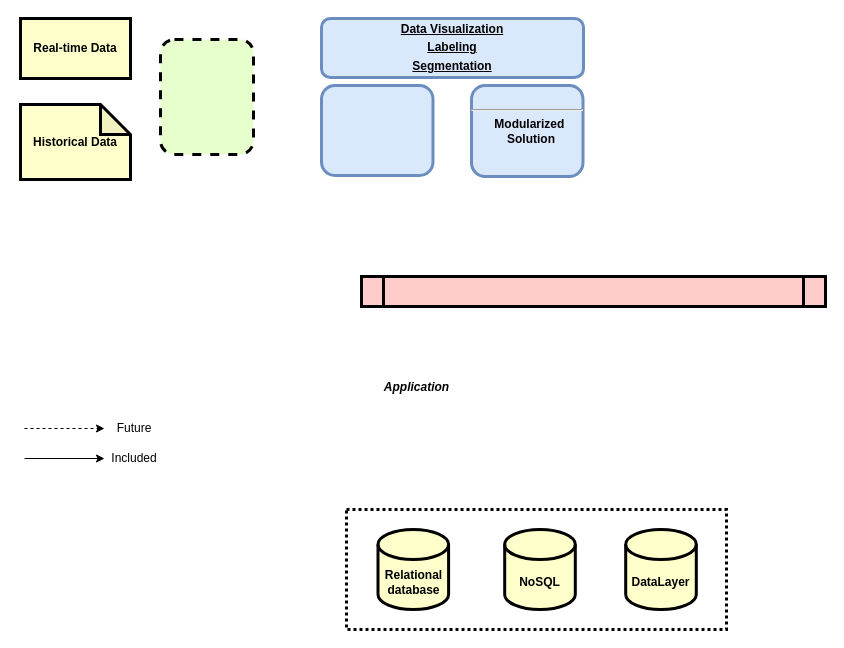
The diagram is 844 pixels wide and 648 high, and some of its shapes have lost their labels. The centre of each missing label's shape, as x and y in pixels:
Data Preprocessing: (377,130)
Lightweight protocol conversion Layer: (206,97)
Message Bus: (593,291)
